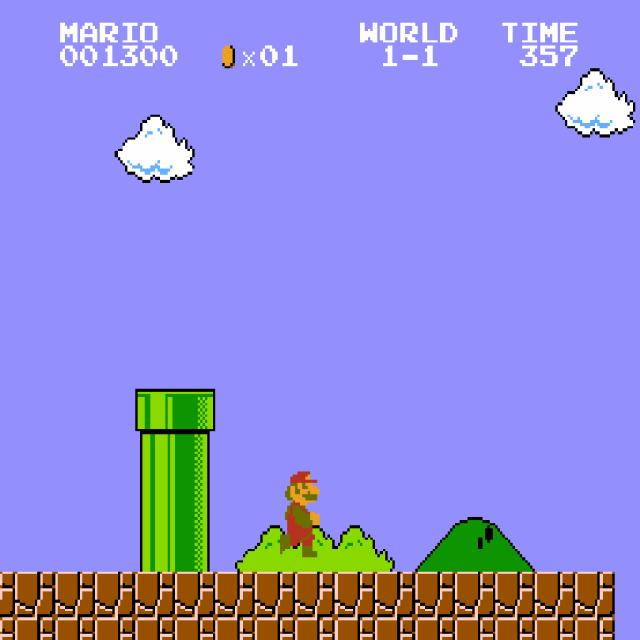big_mario: (277, 463, 320, 557)
pipe: (135, 434, 175, 480), (135, 480, 175, 526), (175, 434, 215, 480), (175, 480, 215, 526), (135, 526, 175, 571), (175, 526, 215, 571)
pipe_head: (135, 389, 175, 434), (175, 389, 215, 434)
undestructible_block: (15, 572, 55, 617), (55, 572, 95, 617), (95, 572, 135, 617), (135, 572, 175, 617), (175, 572, 215, 617), (215, 572, 255, 617), (255, 572, 295, 617), (295, 572, 335, 617), (335, 572, 375, 617), (375, 572, 415, 617), (415, 572, 455, 617), (455, 572, 495, 617), (495, 572, 535, 617), (535, 572, 575, 617), (575, 572, 615, 617), (15, 617, 55, 640), (55, 617, 95, 640), (95, 617, 135, 640), (135, 617, 175, 640), (175, 617, 215, 640), (215, 617, 255, 640), (255, 617, 295, 640), (295, 617, 335, 640), (335, 617, 375, 640), (375, 617, 415, 640), (415, 617, 455, 640), (455, 617, 495, 640), (495, 617, 535, 640), (535, 617, 575, 640), (575, 617, 615, 640), (0, 572, 15, 617), (0, 617, 15, 640)
